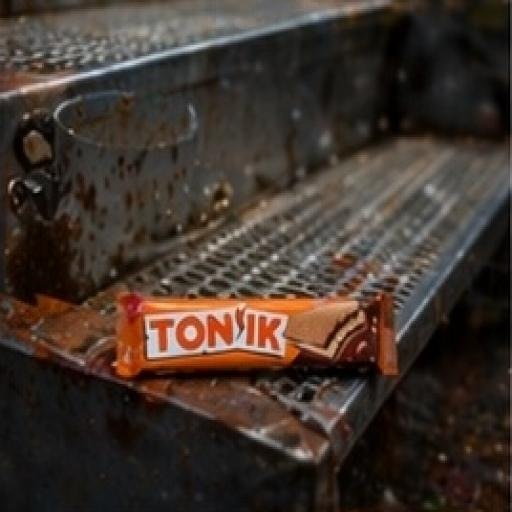tonik: (62, 187, 440, 453)
